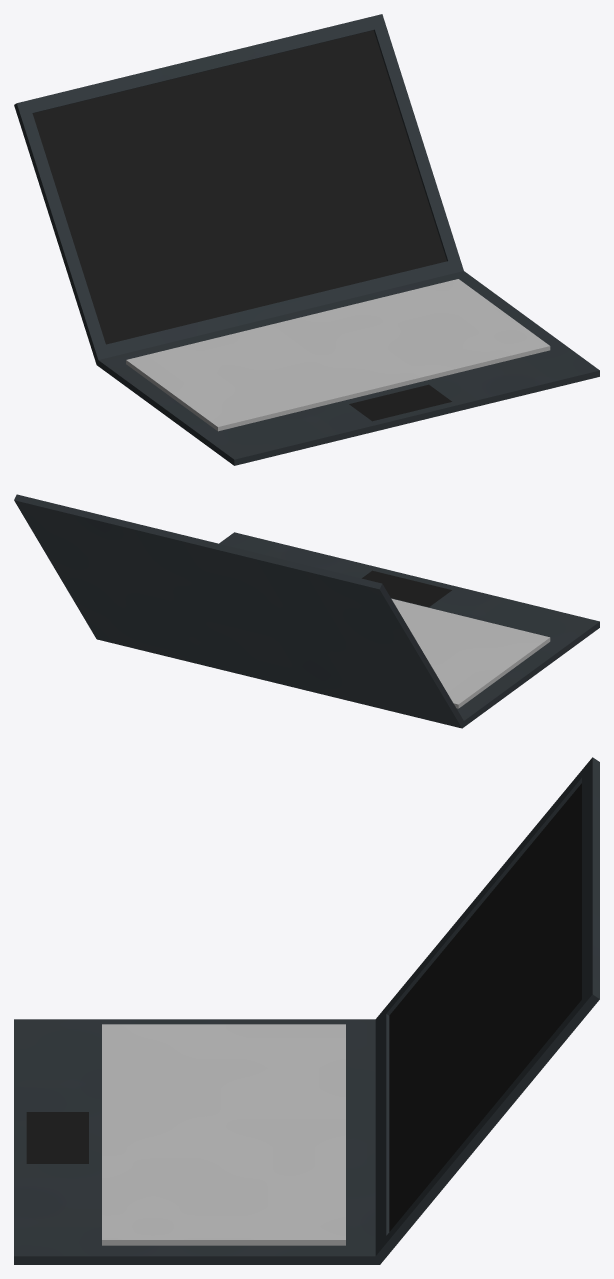
Rendered from Laptop_01.fbx.
3 views of the same model, one above another, from view 1: azimuth 30°, elevation 25°; view 2: azimuth 150°, elevation 25°; view 3: azimuth 270°, elevation 25° (orthographic). The views are drawn at different scales.
Visible parts, largest first — view 1: Laptop_01; view 2: Laptop_01; view 3: Laptop_01.
Part boxes in pixels (x1,y1,x2,y2): Laptop_01: (14, 14, 599, 465); Laptop_01: (14, 494, 599, 728); Laptop_01: (14, 757, 599, 1264).
Bounding box in the file's own units: 0.6087 × 0.3237 × 0.6355.
